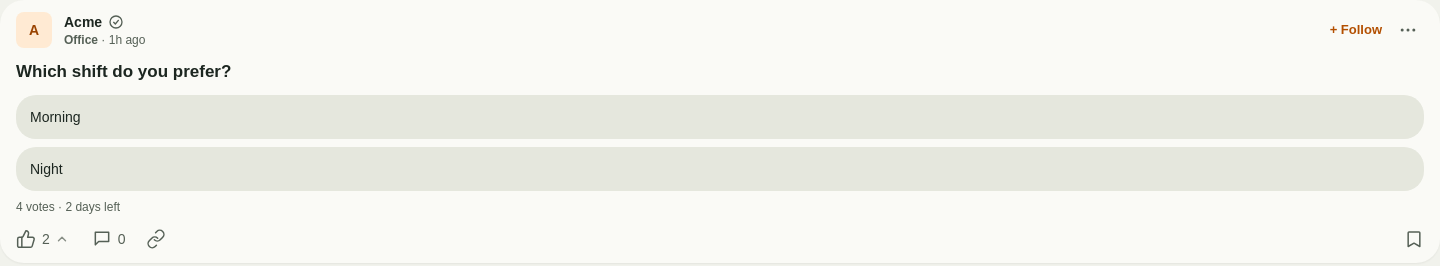
Test case: post kinds › the owner of a poll can pin or delete it but not reword it
The image size is (1440, 266).
Step 1. Click the button named "Post options" → (1408, 30), box [1392,14,1424,46]
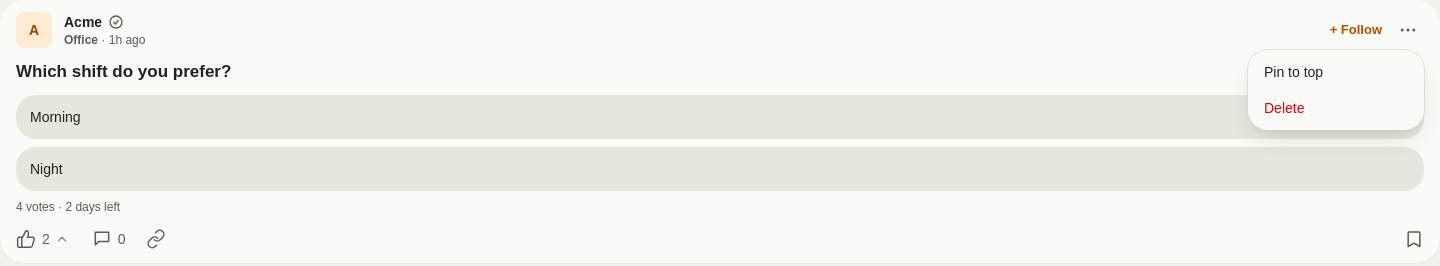
Expected: the menu item "Delete" is shown, [1252,90,1420,126]
